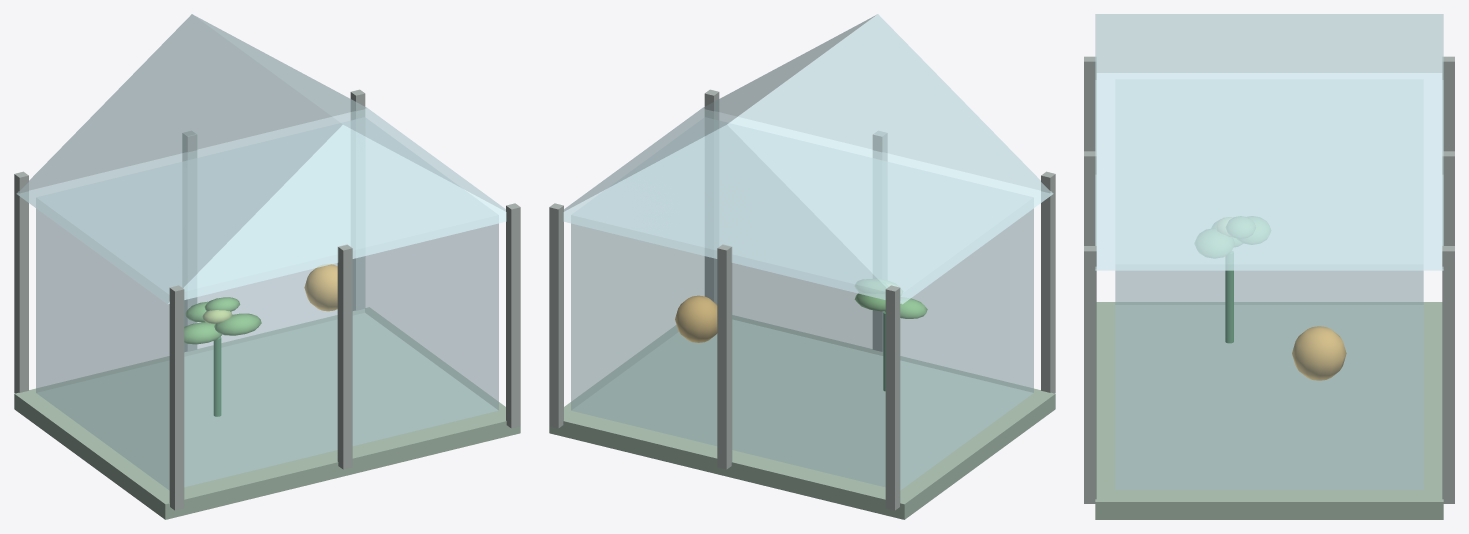
Rendered from greenhouse.glb.
3 views of the same model, side by side, from view 1: azimuth 30°, elevation 25°; view 2: azimuth 150°, elevation 25°; view 3: azimuth 270°, elevation 25° (orthographic). The views are drawn at different scales.
Size of the model in its own units: 0.95 by 0.9 by 0.745.
